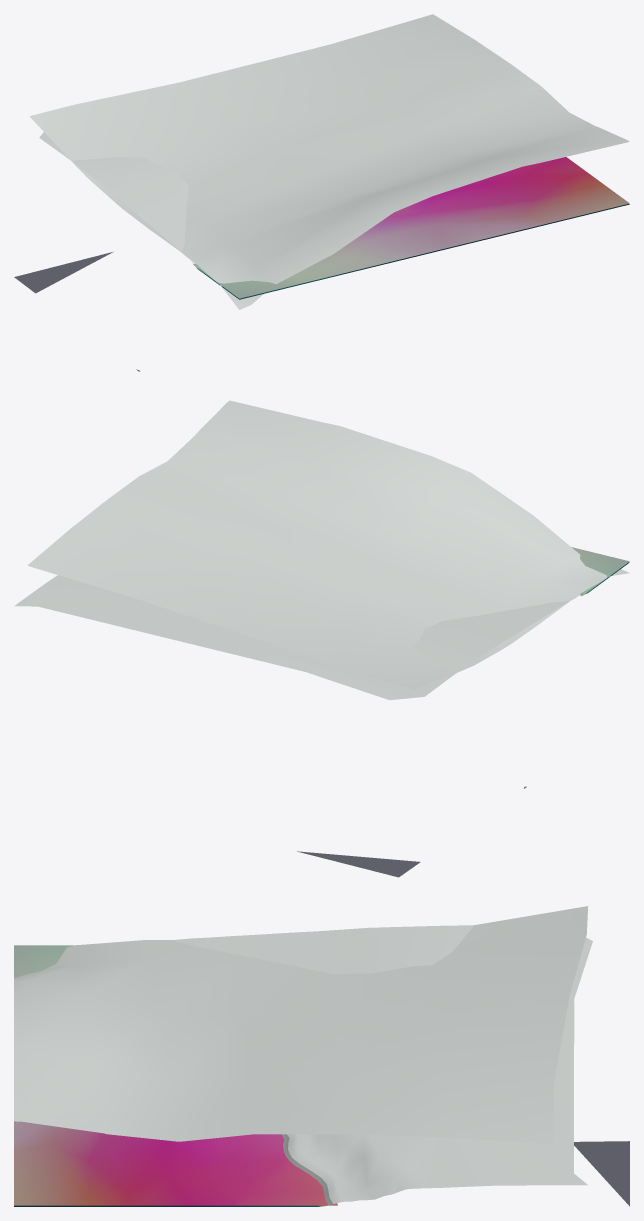
3 views of the same model, one above another, from view 1: azimuth 30°, elevation 25°; view 2: azimuth 150°, elevation 25°; view 3: azimuth 270°, elevation 25° (orthographic). The views are drawn at different scales.
Parts seen in each view (by area): view 1: G:\FFXIV-MapTools\exports\r2f1\bg\ex1\01_roc_r2\fld\r2f1\bgp (×4); view 2: G:\FFXIV-MapTools\exports\r2f1\bg\ex1\01_roc_r2\fld\r2f1\bgp (×3); view 3: G:\FFXIV-MapTools\exports\r2f1\bg\ex1\01_roc_r2\fld\r2f1\bgp (×5).
Part boxes in pixels (box(x1,y1,x2,y2)): G:\FFXIV-MapTools\exports\r2f1\bg\ex1\01_roc_r2\fld\r2f1\bgp (×4): box(14, 14, 629, 371); G:\FFXIV-MapTools\exports\r2f1\bg\ex1\01_roc_r2\fld\r2f1\bgp (×3): box(14, 400, 629, 877); G:\FFXIV-MapTools\exports\r2f1\bg\ex1\01_roc_r2\fld\r2f1\bgp (×5): box(14, 906, 629, 1206).
Bounding box in the file's own units: 128 × 65.62 × 128.
